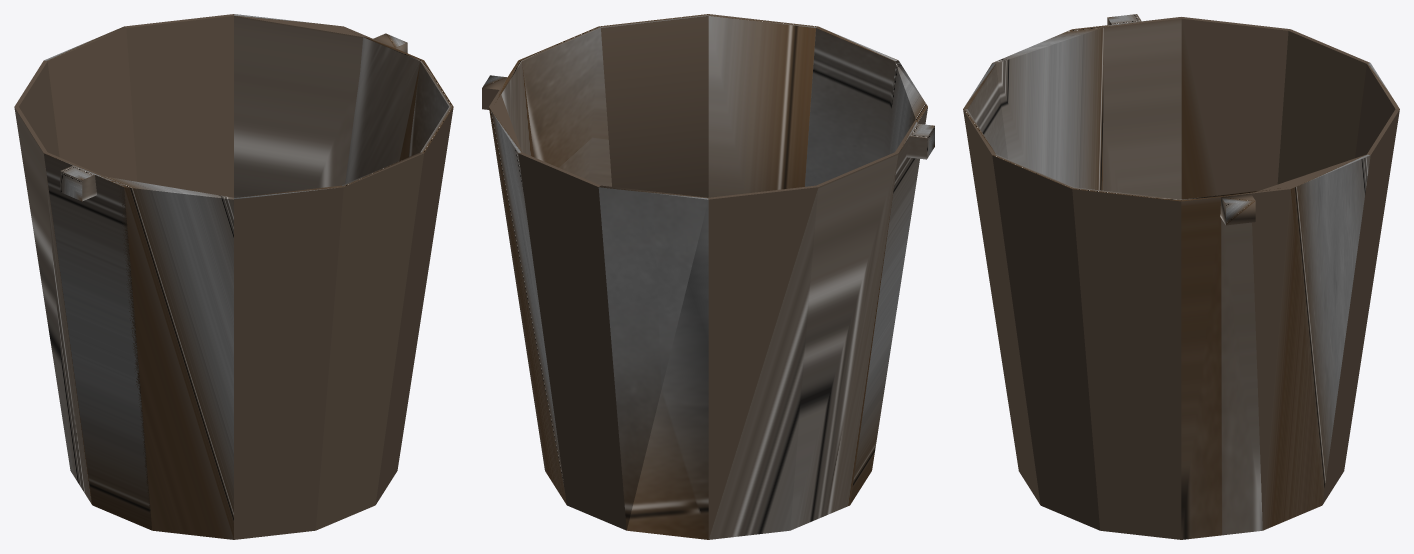
File: original-1.obj
3 renders of one model, left to right at view 1: azimuth 30°, elevation 25°; view 2: azimuth 150°, elevation 25°; view 3: azimuth 270°, elevation 25°, orthographic.
Visible parts, largest first — view 1: #ID27.009, #ID27.008, #ID27.007, #ID27.010, #ID27.003, #ID27.002, #ID27.001, #ID27.006, #ID27.011, #ID27.004, #ID27.005, #ID27.012 (+1 smaller); view 2: #ID27.012, #ID27.001, #ID27.002, #ID27.011, #ID27.006, #ID27.007, #ID27.005, #ID27.008, #ID27.003, #ID27.010, #ID27.009, #ID27.004 (+1 smaller); view 3: #ID27.005, #ID27.003, #ID27.004, #ID27.006, #ID27.011, #ID27.009, #ID27.010, #ID27.012, #ID27.002, #ID27.007, #ID27.008, #ID27.001 (+1 smaller).
Part boxes in pixels (box(x1,y1,x2,y2)): #ID27.009: box(96, 175, 233, 539); #ID27.008: box(234, 185, 343, 539); #ID27.007: box(315, 152, 423, 530); #ID27.010: box(44, 152, 151, 530); #ID27.003: box(234, 14, 371, 197); #ID27.002: box(124, 14, 233, 197); #ID27.001: box(44, 26, 137, 181); #ID27.006: box(375, 106, 453, 504); #ID27.011: box(14, 106, 92, 504); #ID27.004: box(345, 34, 423, 183); #ID27.005: box(408, 60, 453, 157); #ID27.012: box(14, 60, 59, 157); #ID27.012: box(708, 185, 818, 539); #ID27.001: box(598, 185, 708, 539); #ID27.002: box(518, 152, 626, 530); #ID27.011: box(790, 152, 898, 530); #ID27.006: box(599, 14, 708, 197); #ID27.007: box(708, 14, 817, 197); #ID27.005: box(519, 26, 611, 186); #ID27.008: box(805, 26, 897, 186); #ID27.003: box(489, 90, 566, 504); #ID27.010: box(850, 107, 927, 504); #ID27.009: box(872, 60, 927, 467); #ID27.004: box(495, 60, 533, 156); #ID27.005: box(1072, 187, 1181, 539); #ID27.003: box(1251, 154, 1370, 530); #ID27.004: box(1181, 188, 1280, 539); #ID27.006: box(992, 154, 1099, 530); #ID27.011: box(1181, 17, 1290, 199); #ID27.009: box(993, 24, 1111, 190); #ID27.010: box(1073, 17, 1181, 199); #ID27.012: box(1277, 29, 1369, 184); #ID27.002: box(1322, 109, 1399, 504); #ID27.007: box(963, 109, 1040, 504); #ID27.008: box(963, 63, 1007, 159); #ID27.001: box(1355, 63, 1399, 158).
Bounding box in the file's own units: 1.45 × 1.29 × 1.41.
